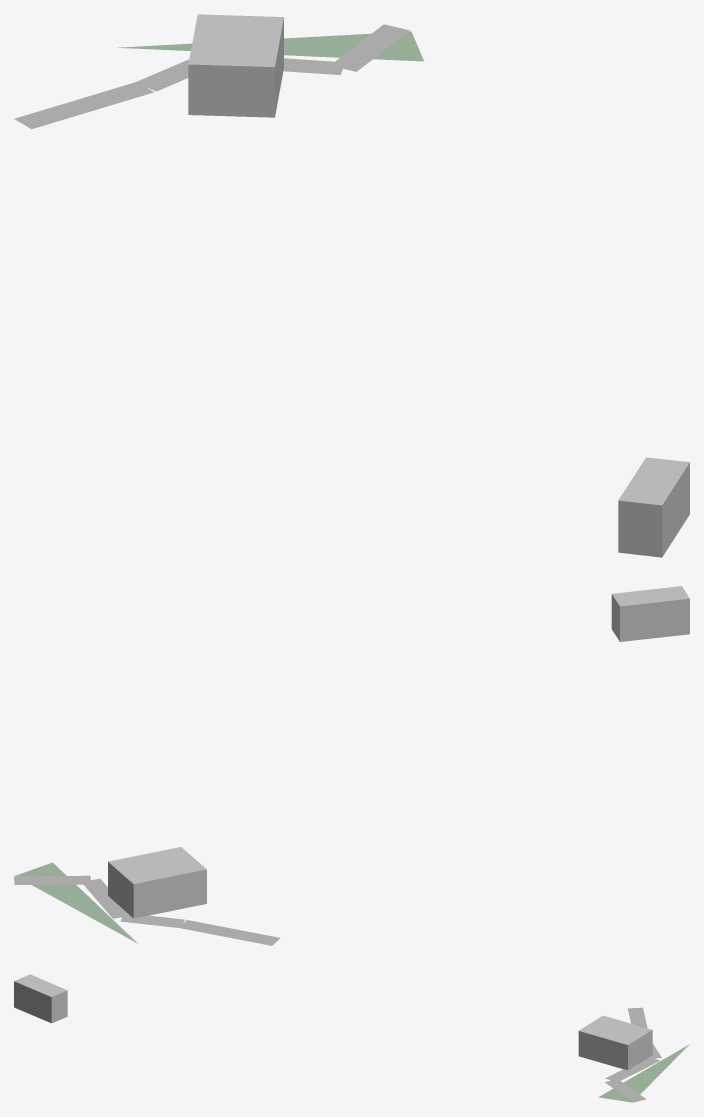
The picture shows the model from 3 angles, top to bottom: view 1: azimuth 30°, elevation 25°; view 2: azimuth 150°, elevation 25°; view 3: azimuth 270°, elevation 25°; orthographic projection. The views are drawn at different scales.
Bounding box in the file's own units: 104 × 16.37 × 308.
